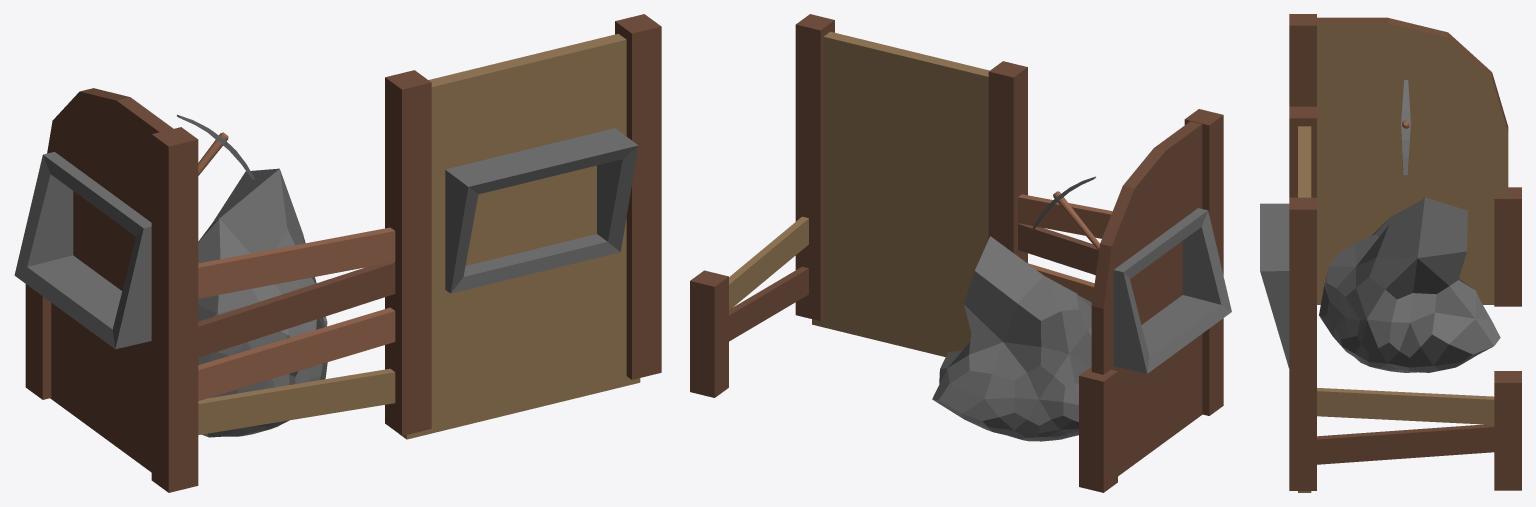
The model's file is Stone_Splitter_Seperated.fbx.
3 renders of one model, left to right at view 1: azimuth 30°, elevation 25°; view 2: azimuth 150°, elevation 25°; view 3: azimuth 270°, elevation 25°, orthographic. The views are drawn at different scales.
Visible parts, largest first — view 1: Cube.206, Cube.202; view 2: Cube.206, Cube.202; view 3: Cube.206, Cube.202.
Part boxes in pixels (bbox=[...]): Cube.206: bbox=[14, 14, 661, 492]; Cube.202: bbox=[177, 114, 254, 179]; Cube.206: bbox=[690, 14, 1231, 492]; Cube.202: bbox=[1031, 176, 1099, 250]; Cube.206: bbox=[1260, 14, 1521, 492]; Cube.202: bbox=[1401, 80, 1410, 175].
Bounding box in the file's own units: 317 × 211 × 168.
